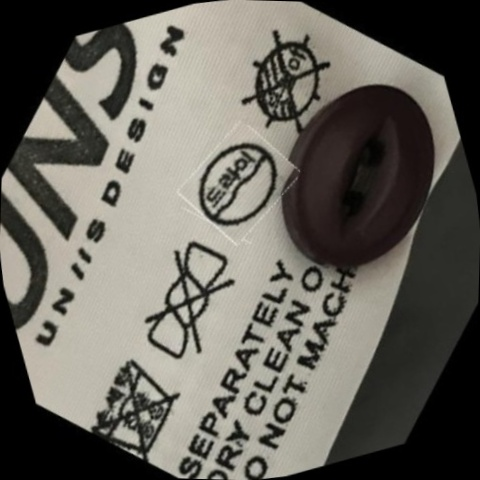DN_dry: (226, 21, 347, 144)
DN_wring: (121, 235, 258, 372)
dry_clean: (184, 128, 294, 241)
hand_wash: (78, 341, 194, 465)
